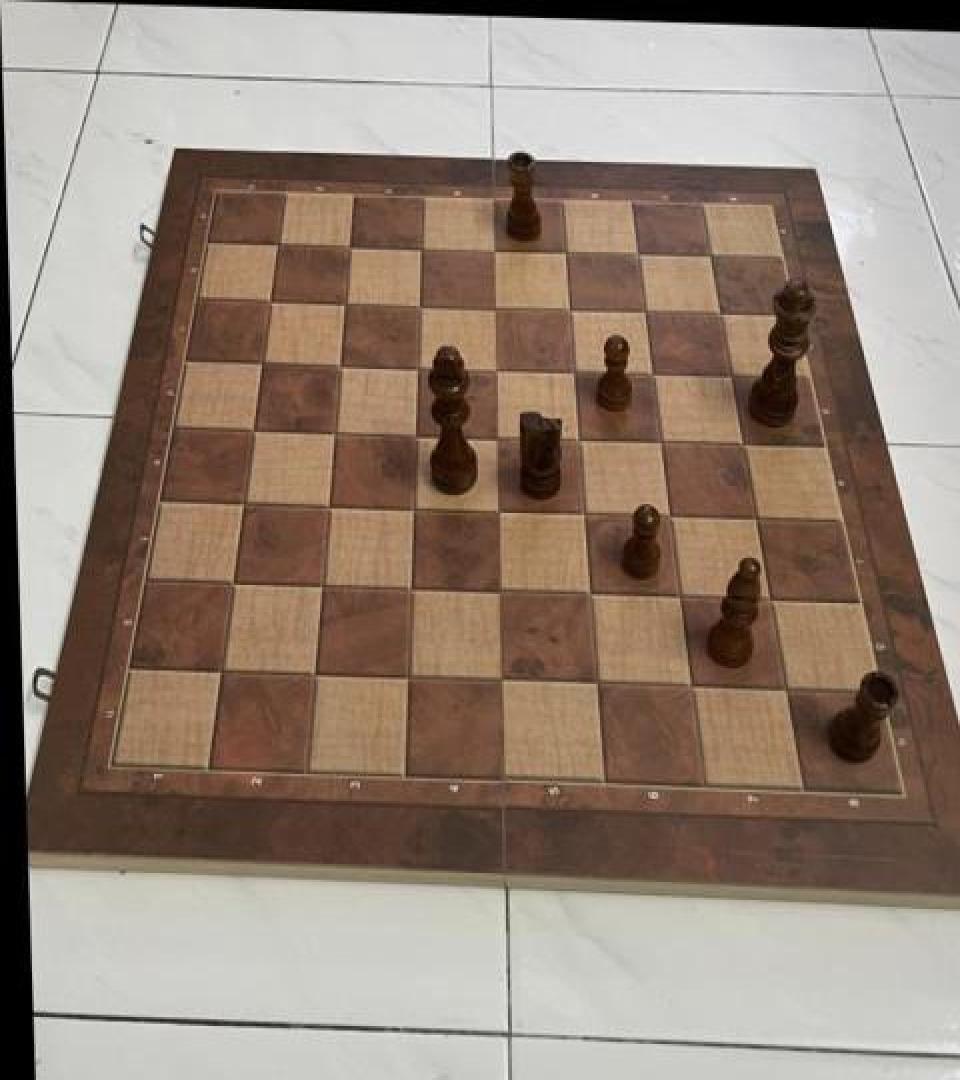xcorner: (660, 579, 692, 616), (480, 572, 512, 609), (482, 661, 514, 698), (295, 653, 327, 690), (692, 238, 724, 274), (619, 236, 651, 272), (546, 235, 578, 271), (473, 233, 505, 269), (401, 232, 433, 268), (329, 230, 361, 266), (258, 228, 290, 264), (702, 296, 734, 332), (625, 294, 657, 330), (550, 292, 582, 328), (474, 290, 506, 326), (399, 289, 431, 325), (325, 287, 357, 323), (251, 286, 283, 322), (713, 359, 745, 395), (633, 356, 665, 392), (554, 354, 586, 390), (475, 352, 507, 388), (397, 350, 429, 386), (320, 349, 352, 385), (243, 346, 275, 382), (724, 426, 756, 462), (641, 424, 673, 460), (559, 422, 591, 458), (477, 420, 509, 456), (395, 418, 427, 454), (314, 415, 346, 451), (234, 413, 266, 449), (737, 500, 769, 536), (650, 498, 682, 534), (564, 495, 596, 531), (478, 493, 510, 529), (393, 490, 425, 526), (309, 487, 341, 523), (225, 485, 257, 521), (751, 583, 783, 619), (570, 576, 602, 612), (391, 570, 423, 606), (302, 567, 334, 603), (214, 564, 246, 600), (766, 672, 798, 708), (671, 668, 703, 704), (576, 665, 608, 701), (388, 658, 420, 694), (203, 650, 235, 686)
